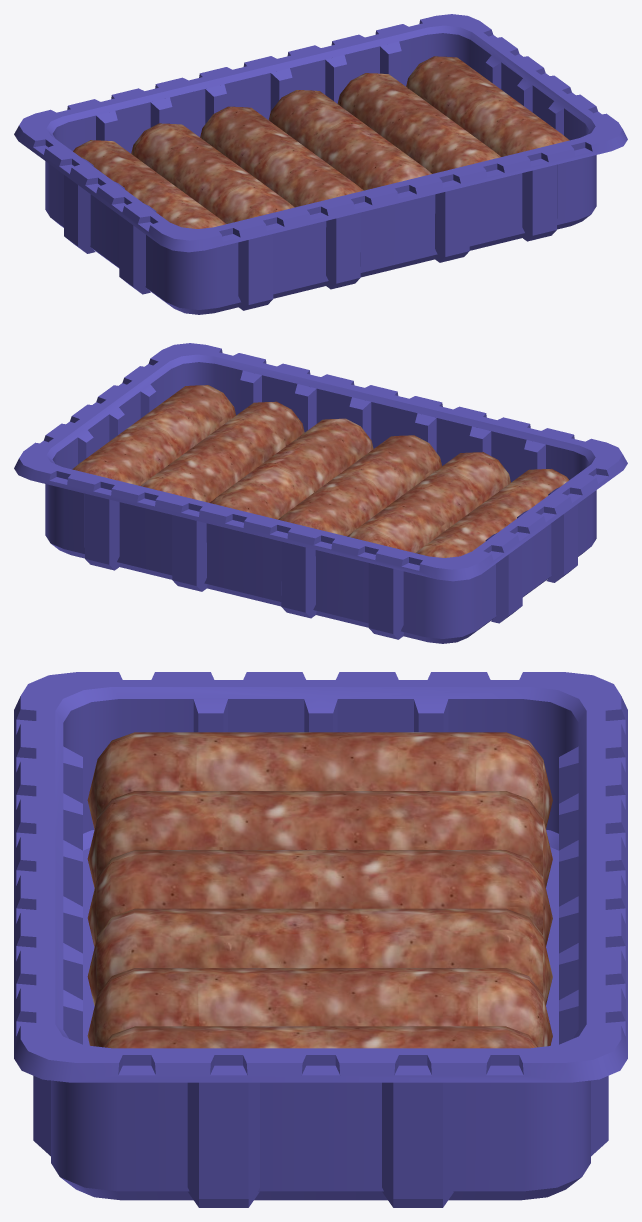
File: Sausages_Bavarian.glb
3 views of the same model, one above another, from view 1: azimuth 30°, elevation 25°; view 2: azimuth 150°, elevation 25°; view 3: azimuth 270°, elevation 25° (orthographic). The views are drawn at different scales.
Parts seen in each view (by area): view 1: Sausages_Bavarian Tray, Sausages_Bavarian; view 2: Sausages_Bavarian Tray, Sausages_Bavarian; view 3: Sausages_Bavarian Tray, Sausages_Bavarian.
Part boxes in pixels (left/top/right/bottom): Sausages_Bavarian Tray: left=14, top=14, right=627, bottom=314; Sausages_Bavarian: left=73, top=56, right=569, bottom=228; Sausages_Bavarian Tray: left=14, top=343, right=627, bottom=643; Sausages_Bavarian: left=72, top=385, right=568, bottom=557; Sausages_Bavarian Tray: left=14, top=672, right=627, bottom=1207; Sausages_Bavarian: left=87, top=732, right=552, bottom=1048.
Bounding box in the file's own units: 0.2476 × 0.046 × 0.1619.
Materials: 2 (2 with a texture image).
